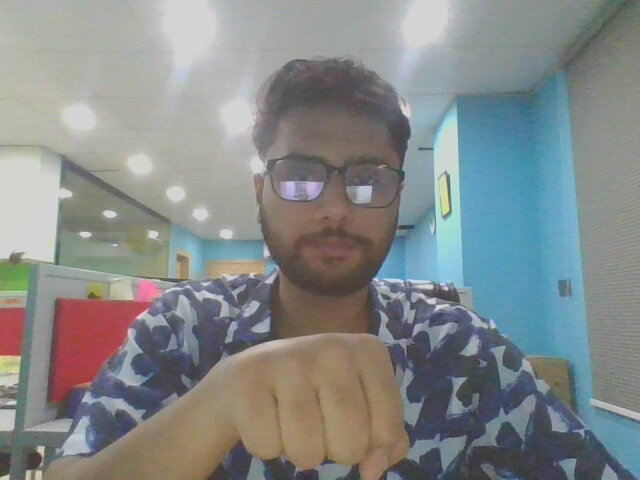yes: (214, 330, 428, 480)
